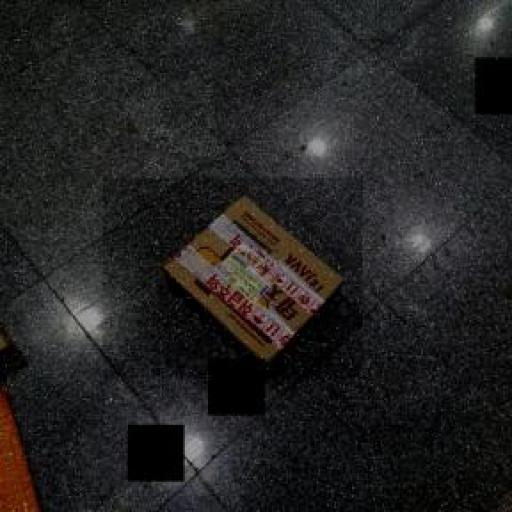box: (102, 178, 364, 378)
